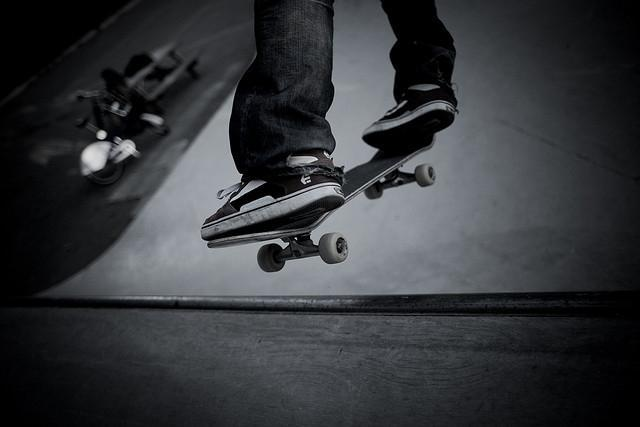bicycle: (70, 39, 206, 186)
